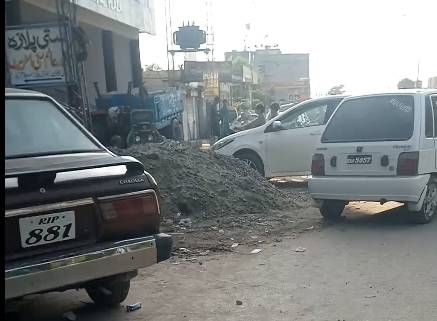number_plate: (19, 212, 86, 247), (343, 152, 374, 166)
